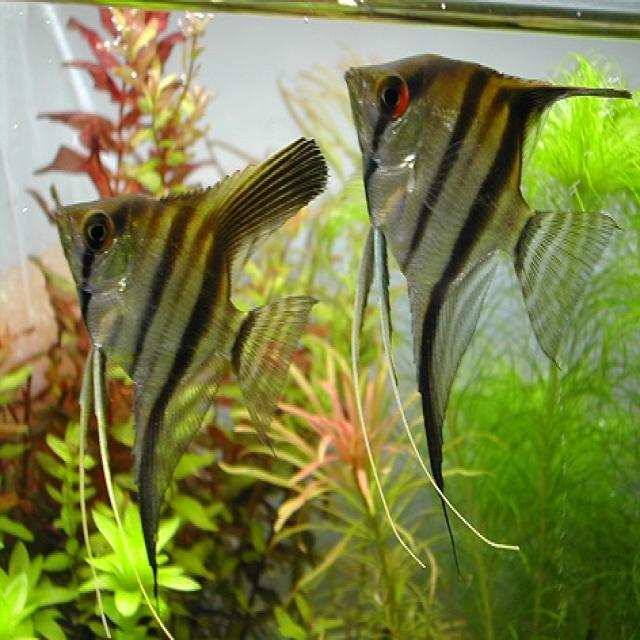AngelFish: (345, 44, 632, 539), (55, 134, 326, 566)
